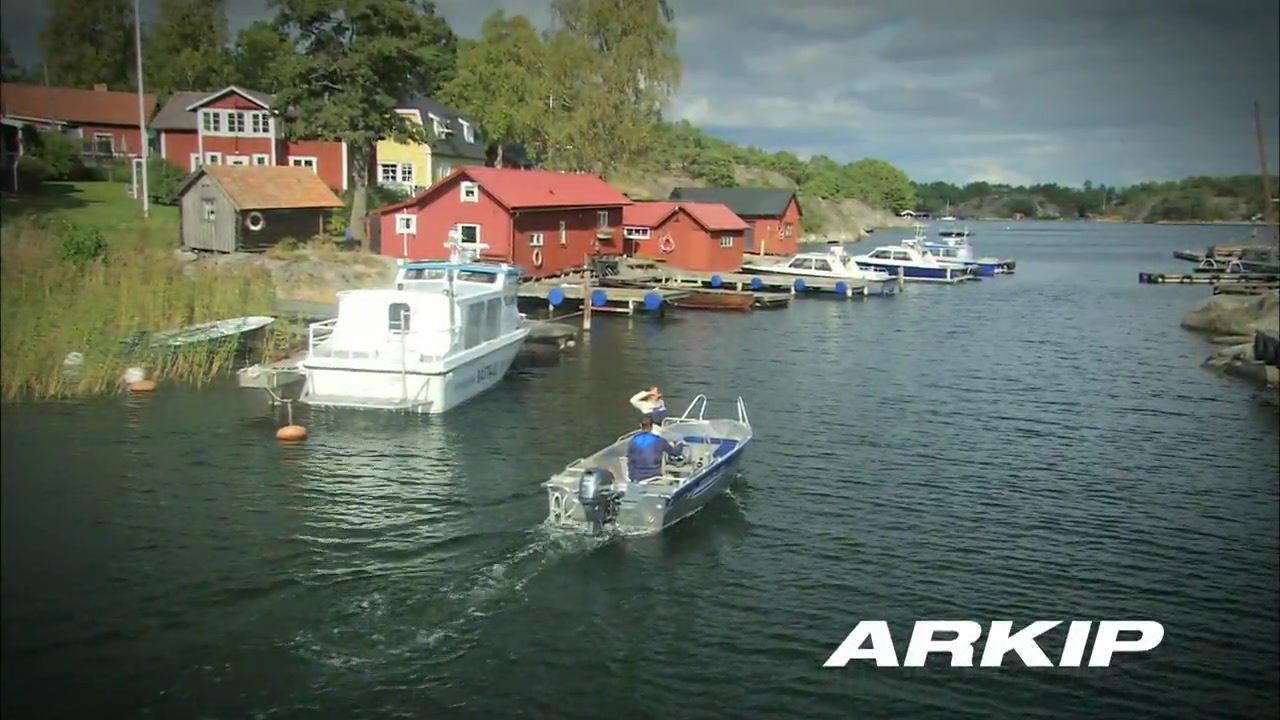boat: (541, 393, 756, 545)
